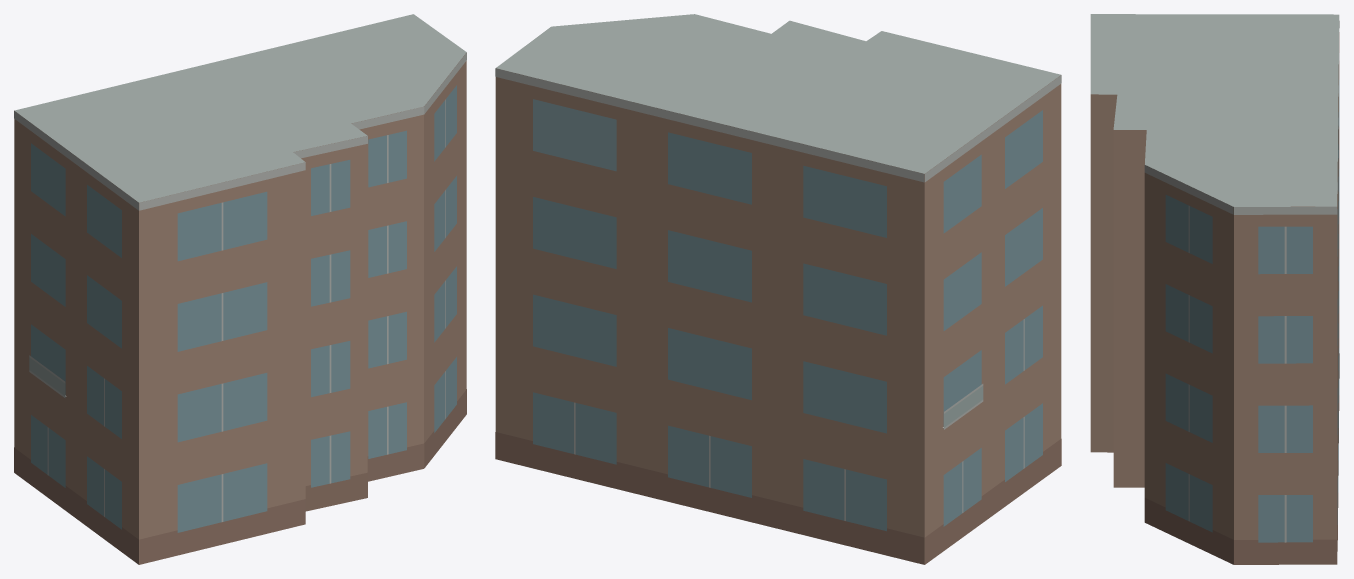
File: survey-upis-32591493.glb
The picture shows the model from 3 angles, left to right: view 1: azimuth 30°, elevation 25°; view 2: azimuth 150°, elevation 25°; view 3: azimuth 270°, elevation 25°; orthographic projection. The views are drawn at different scales.
Visible parts, largest first — view 1: survey-upis-32591493.tmp; view 2: survey-upis-32591493.tmp; view 3: survey-upis-32591493.tmp.
Part boxes in pixels (bbox=[...]): survey-upis-32591493.tmp: bbox=[14, 14, 466, 564]; survey-upis-32591493.tmp: bbox=[495, 14, 1061, 564]; survey-upis-32591493.tmp: bbox=[1090, 14, 1339, 564].
Size of the model in its own units: 12.75 by 11 by 6.94.
